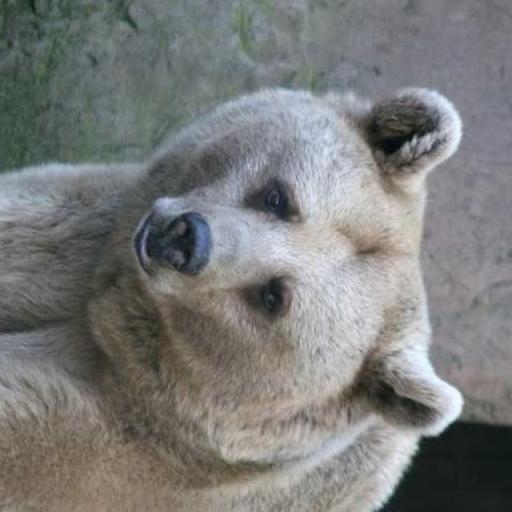Bear: (0, 82, 466, 510)
